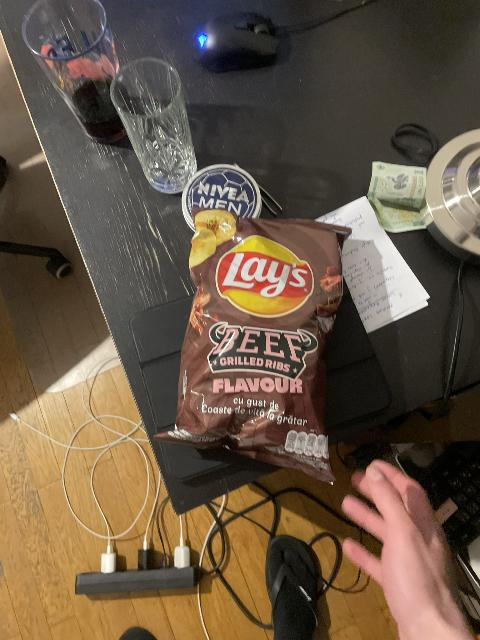Lays Beef Grilled Ribs 125g: (152, 205, 347, 485)
